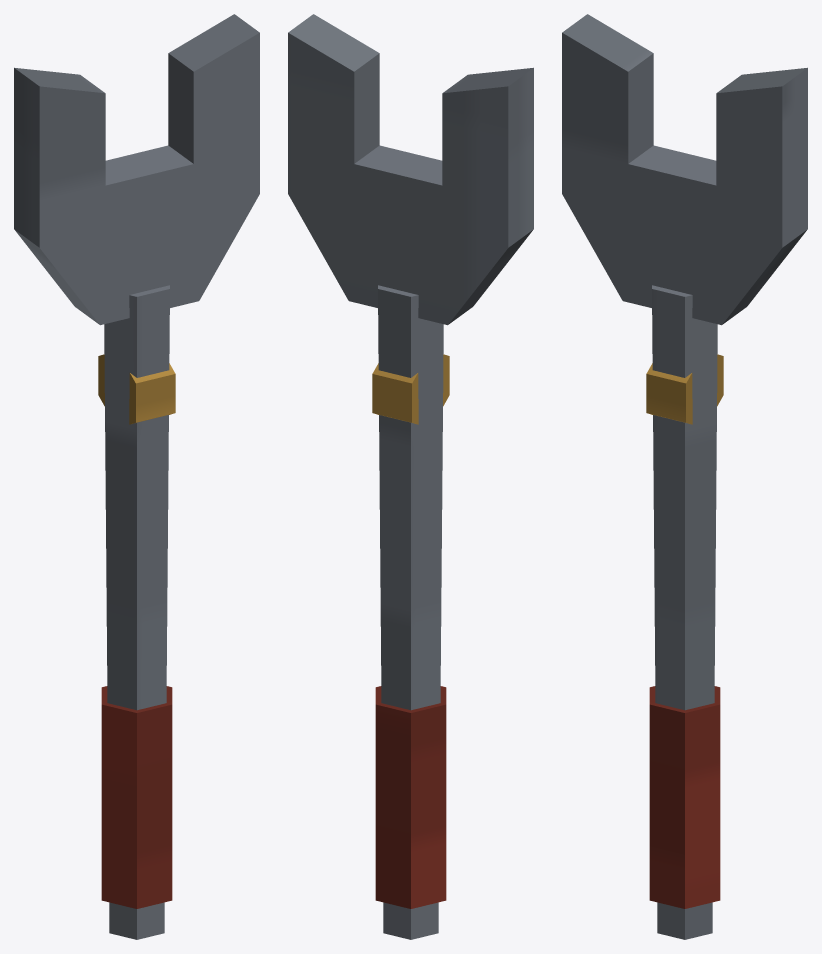
File: SM_Prop_BigWrench_HQ.glb
The picture shows the model from 3 angles, left to right: view 1: azimuth 30°, elevation 25°; view 2: azimuth 150°, elevation 25°; view 3: azimuth 330°, elevation 25°; orthographic projection.
Visible parts, largest first — view 1: SM_Prop_BigWrench_HQ; view 2: SM_Prop_BigWrench_HQ; view 3: SM_Prop_BigWrench_HQ.
Boxes of the visible parts, x1,y1,x2,y2 form: SM_Prop_BigWrench_HQ: (14,14,259,939); SM_Prop_BigWrench_HQ: (288,14,533,939); SM_Prop_BigWrench_HQ: (562,14,807,939).
Bounding box in the file's own units: 0.2 × 0.76 × 0.0589.
Materials: 1 (1 with a texture image).
